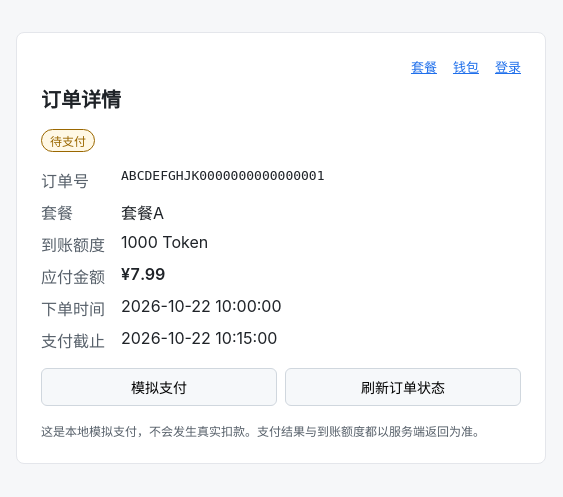
Test: 订单详情页 › 刷新后按服务端响应变为已关闭，展示关闭时间并隐藏支付按钮
The image size is (563, 497).
Click the button "刷新订单状态": (403,387) [285,368,521,406]
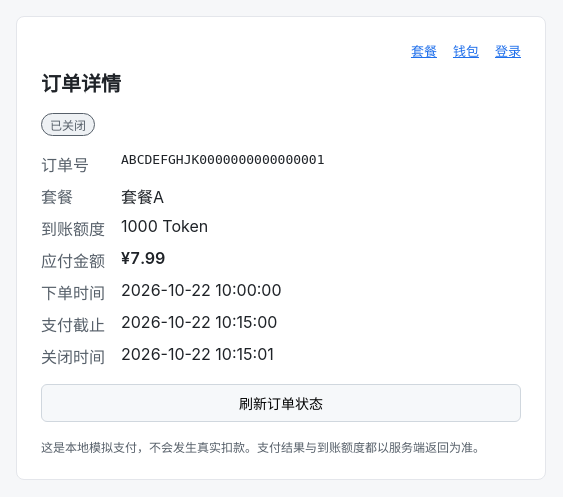
Result: the text "已关闭" is shown at [41,113,95,136]
Result: the text "2026-10-22 10:15:01" is shown at [121,344,274,364]
